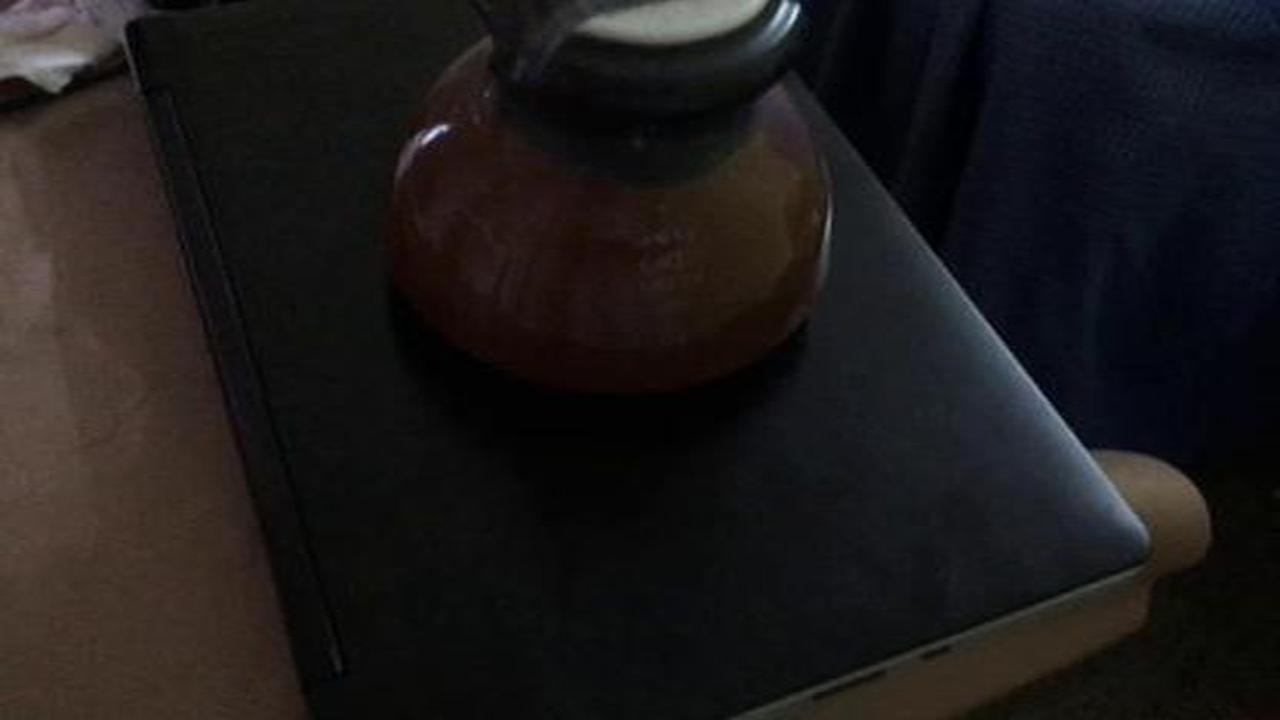insulator_pin: (361, 1, 847, 421)
